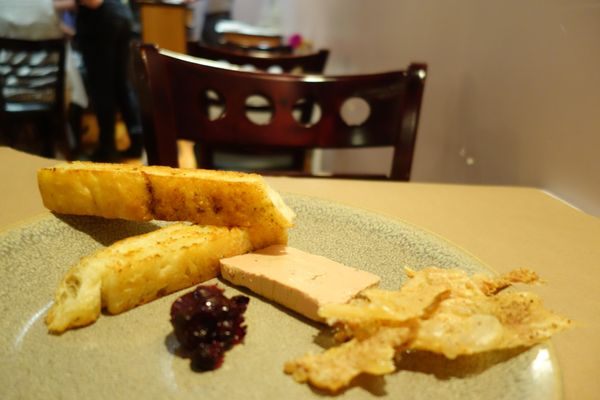soup: (37, 161, 298, 254)
